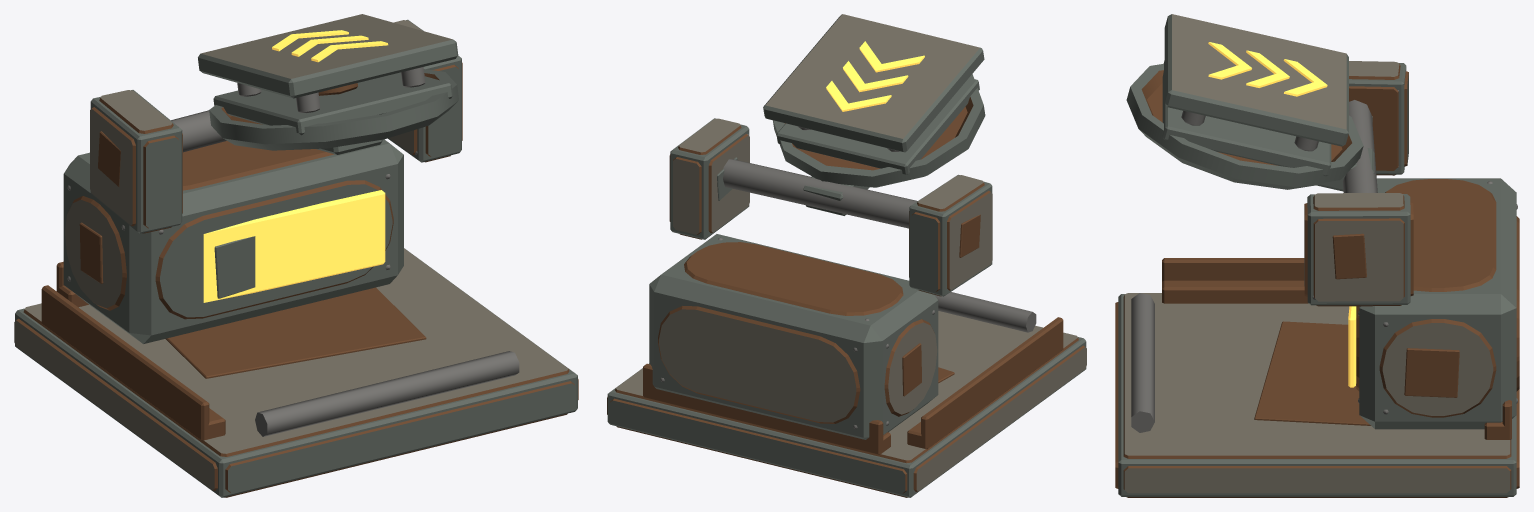
File: R4X_KnockbackTrapDeployer.fbx
3 renders of one model, left to right at view 1: azimuth 30°, elevation 25°; view 2: azimuth 150°, elevation 25°; view 3: azimuth 270°, elevation 25°, orthographic. The views are drawn at different scales.
Parts seen in each view (by area): view 1: R4X_KnockbackTrapDeployer_Body, R4X_KnockbackTrapDeployer_Payload; view 2: R4X_KnockbackTrapDeployer_Body, R4X_KnockbackTrapDeployer_Payload; view 3: R4X_KnockbackTrapDeployer_Body, R4X_KnockbackTrapDeployer_Payload.
Part boxes in pixels (x1,y1,x2,y2): R4X_KnockbackTrapDeployer_Body: (14, 19, 578, 497); R4X_KnockbackTrapDeployer_Payload: (198, 14, 458, 135); R4X_KnockbackTrapDeployer_Body: (607, 74, 1086, 497); R4X_KnockbackTrapDeployer_Payload: (763, 14, 984, 174); R4X_KnockbackTrapDeployer_Body: (1115, 61, 1519, 497); R4X_KnockbackTrapDeployer_Payload: (1162, 14, 1348, 176).
Size of the model in its own units: 0.52 by 0.5174 by 0.52.
